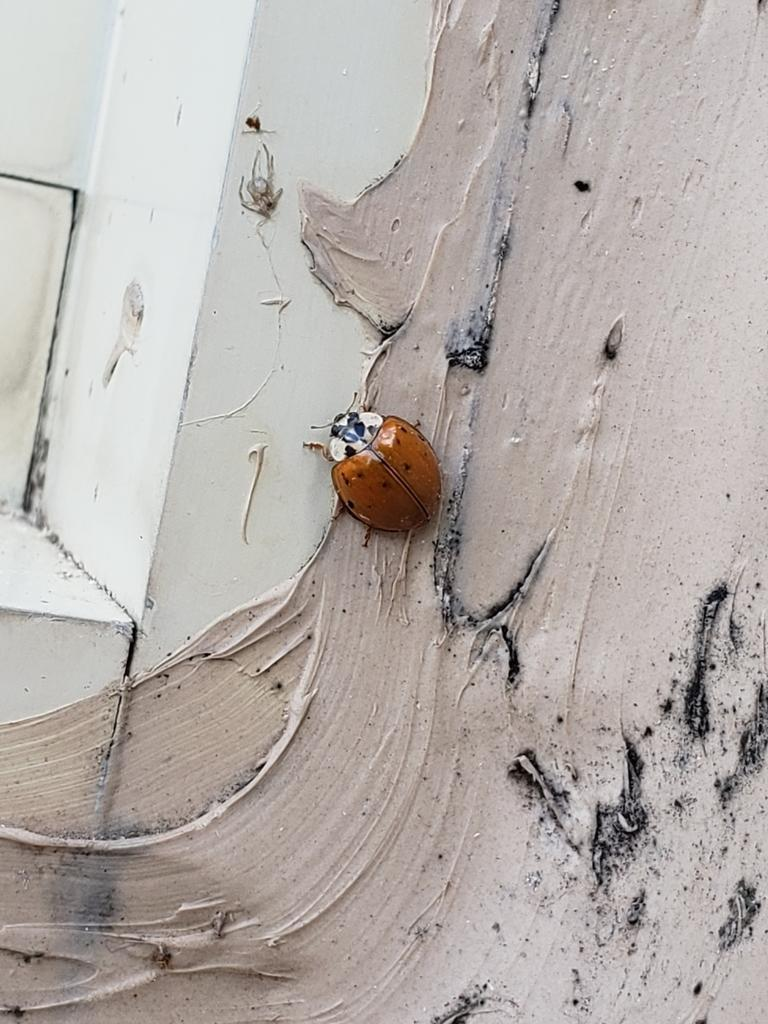ladybug: (301, 390, 447, 552)
